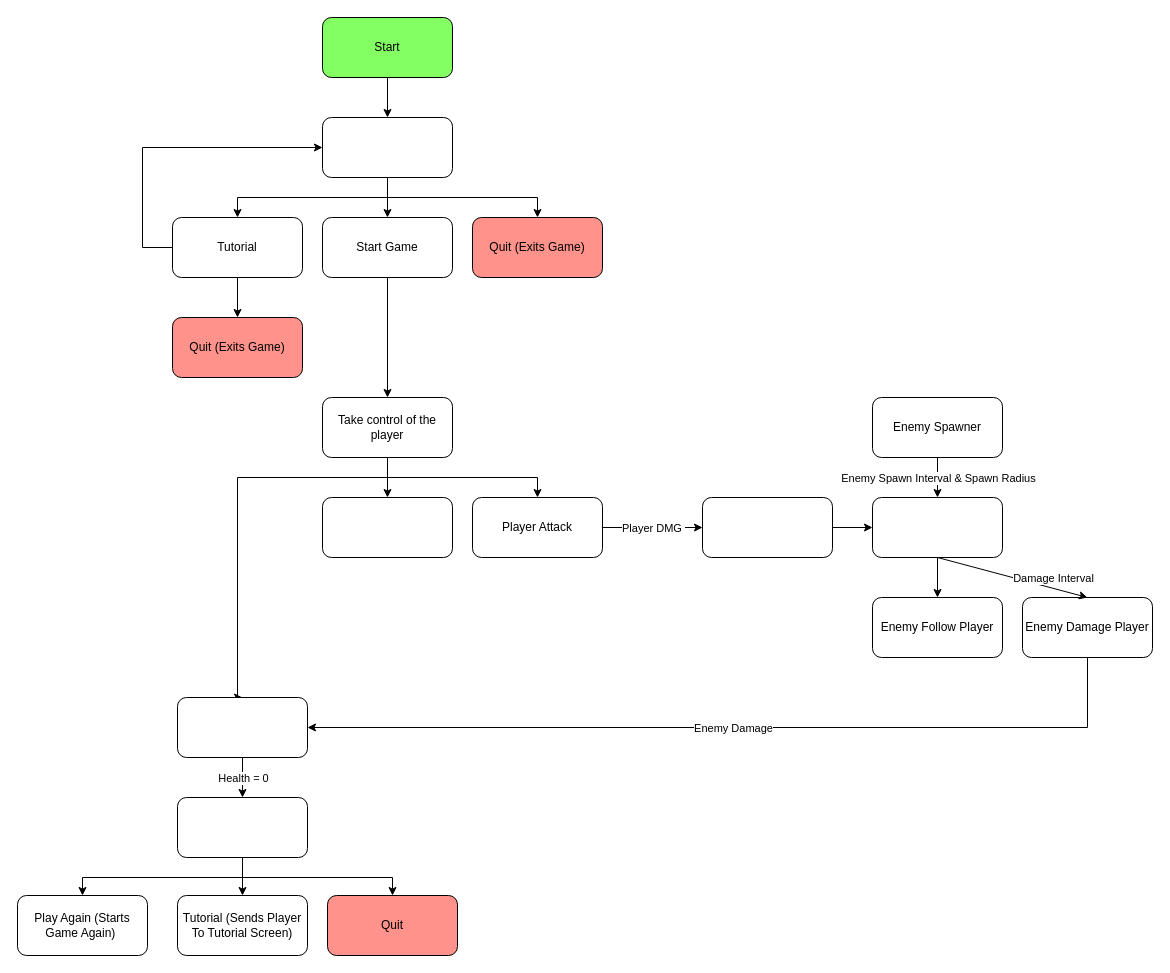
This 1170x973 diagram has some shape labels left out. Here are the shapes that lost their labels. From the top down, the centre of each, then its label:
pixel 387 147: Main Menu
pixel 387 527: Player Movement
pixel 767 527: Enemy Health
pixel 937 527: Enemy
pixel 242 727: Player Health
pixel 242 827: Death Screen
